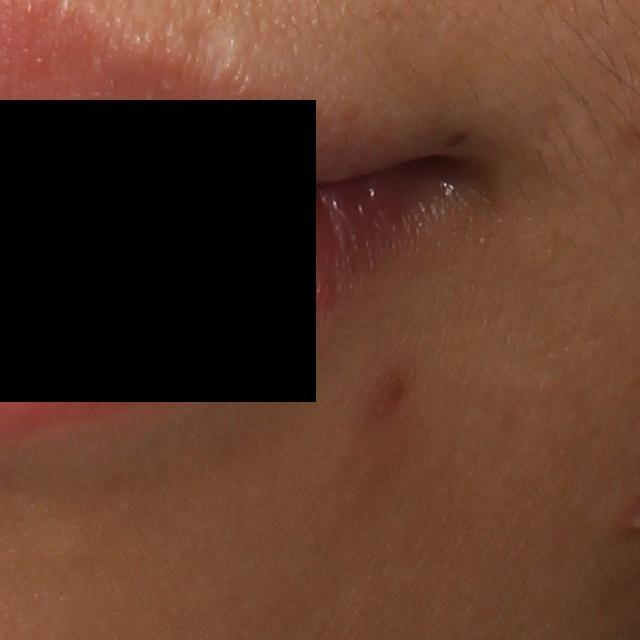nevus: (443, 130, 469, 148)
